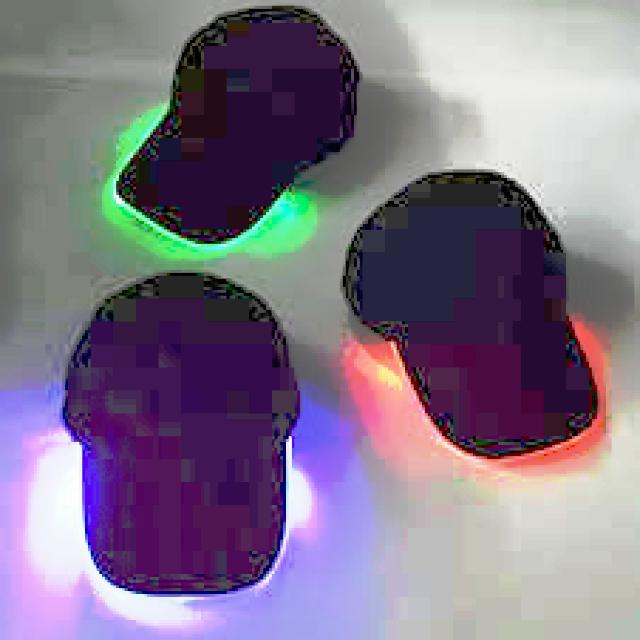TOPI: (329, 160, 620, 470), (48, 261, 303, 603), (110, 0, 362, 247)
